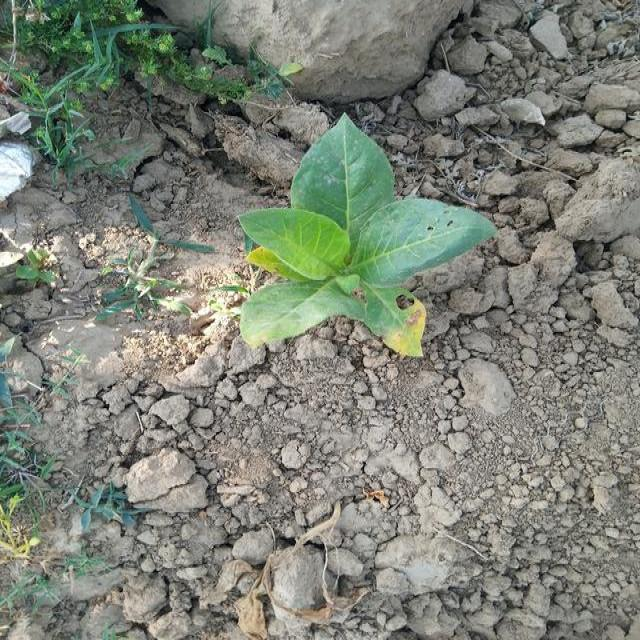crop: (239, 116, 483, 372)
